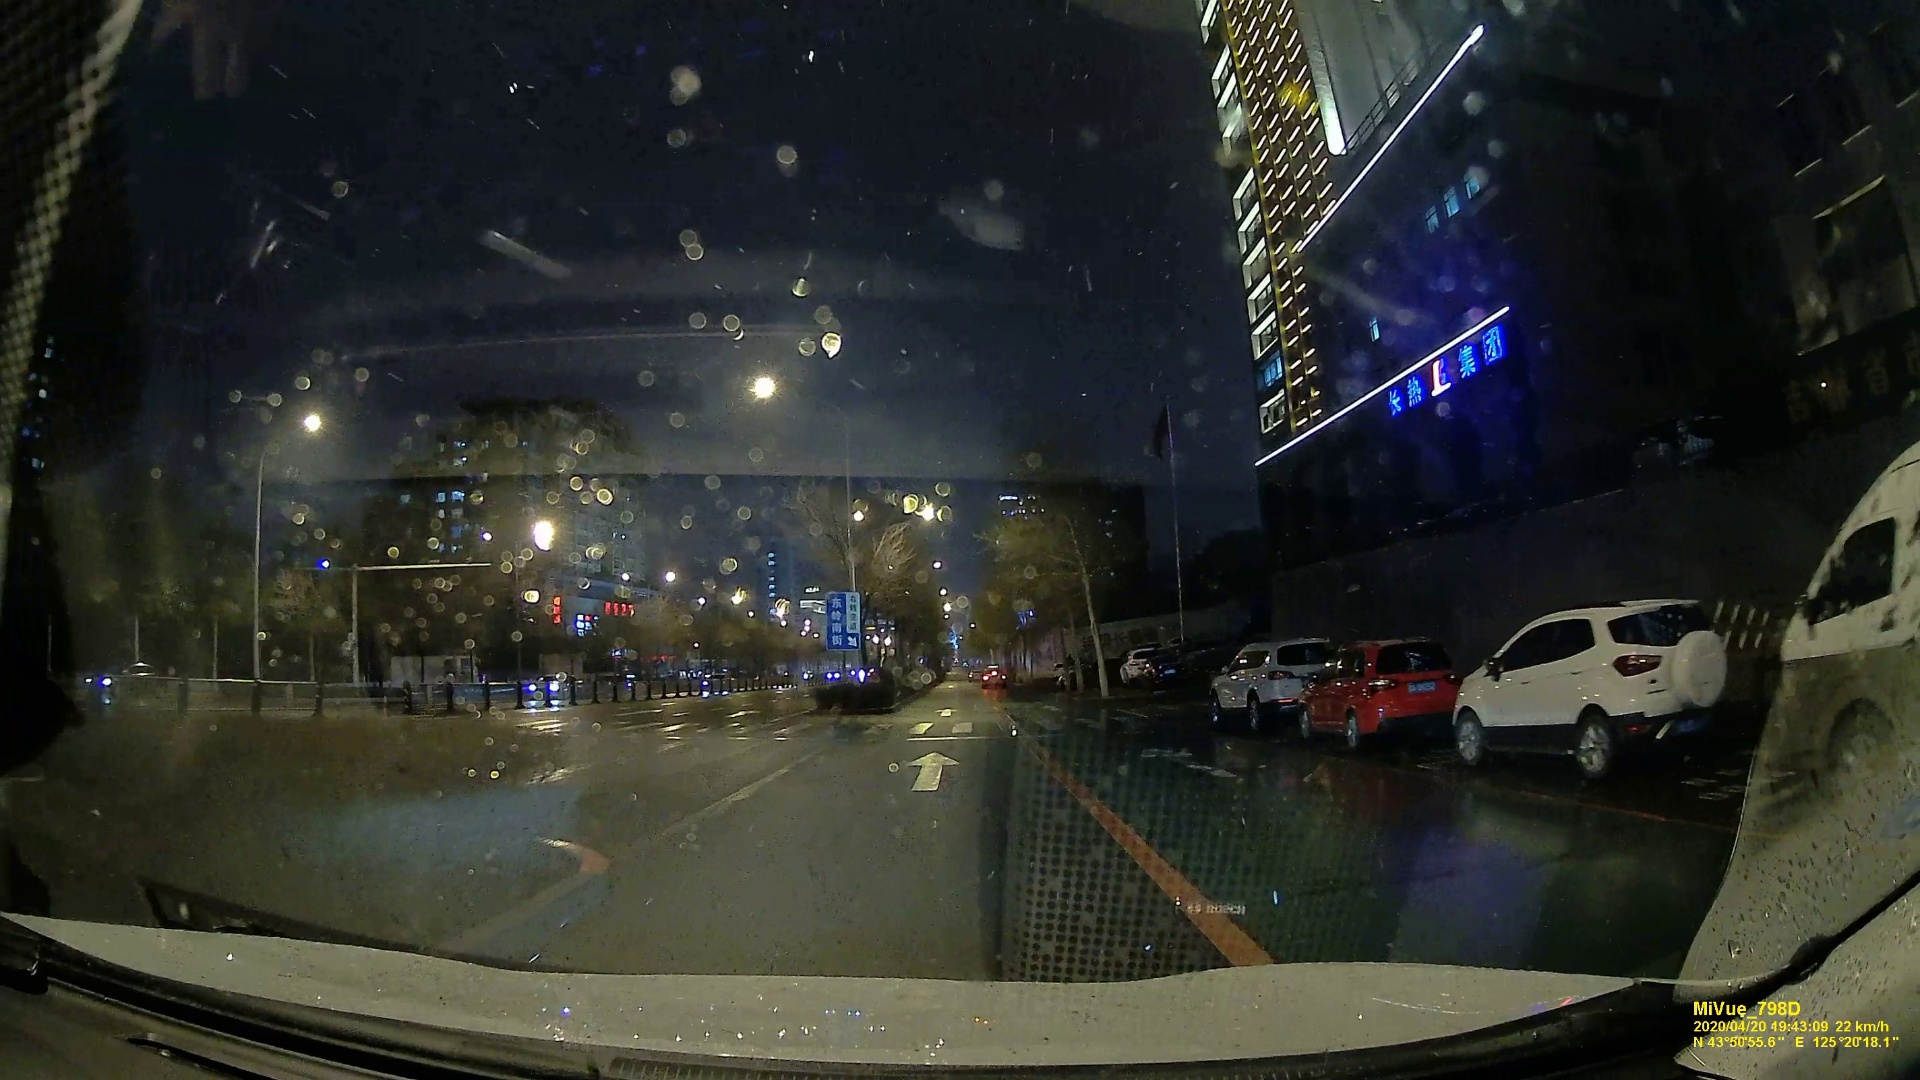minibus: (1753, 455, 1920, 796)
traffic_sign: (825, 592, 861, 647)
vehicle: (1458, 591, 1737, 781), (1215, 634, 1341, 719), (527, 673, 582, 702), (981, 666, 1007, 688)
